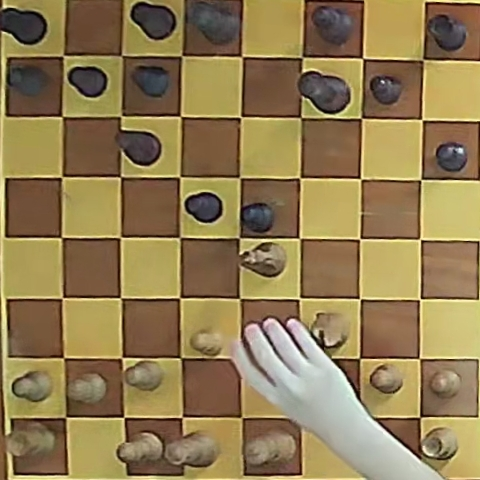black-bishop: (130, 2, 177, 41), (312, 6, 353, 45)
black-king: (298, 72, 349, 114)
black-knight: (115, 130, 160, 166)
black-pawn: (7, 65, 49, 97), (68, 66, 108, 98), (132, 66, 170, 97), (185, 192, 222, 223), (241, 202, 274, 232), (370, 75, 402, 105), (435, 142, 467, 172)
black-queen: (187, 1, 238, 45)
black-rook: (0, 7, 47, 46), (426, 14, 467, 52)
white-bishop: (118, 431, 164, 463)
white-king: (245, 430, 296, 466)
white-knight: (240, 242, 286, 277), (310, 312, 347, 350)
white-pawn: (12, 370, 52, 402), (68, 373, 108, 404), (126, 361, 164, 391), (370, 364, 404, 394), (429, 370, 461, 399), (191, 329, 224, 356)
white-queen: (164, 431, 219, 467)
white-rook: (8, 423, 56, 457), (421, 427, 458, 461)
